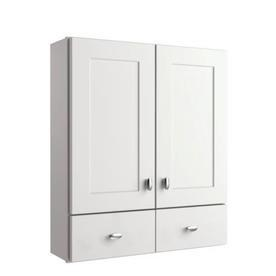cabinet_door: (73, 45, 156, 211), (156, 51, 223, 206), (72, 213, 156, 260), (157, 209, 226, 250)
handle: (108, 231, 124, 241), (185, 224, 198, 234), (147, 176, 153, 191), (165, 176, 170, 191)
